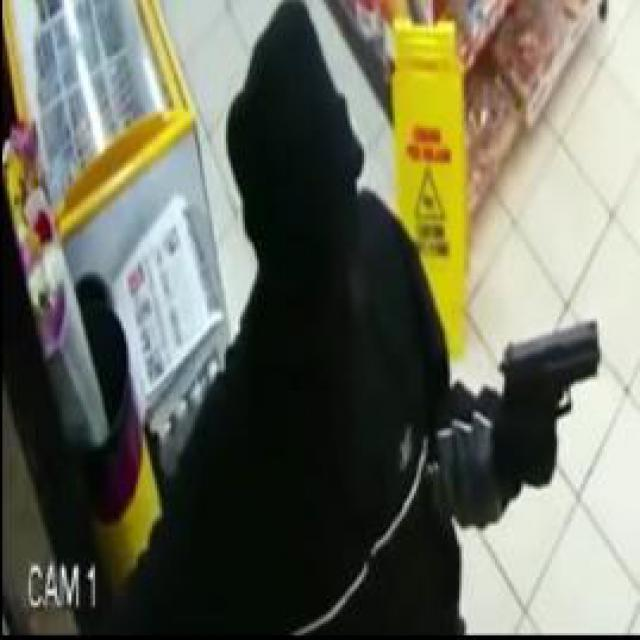gun: (497, 314, 602, 484)
